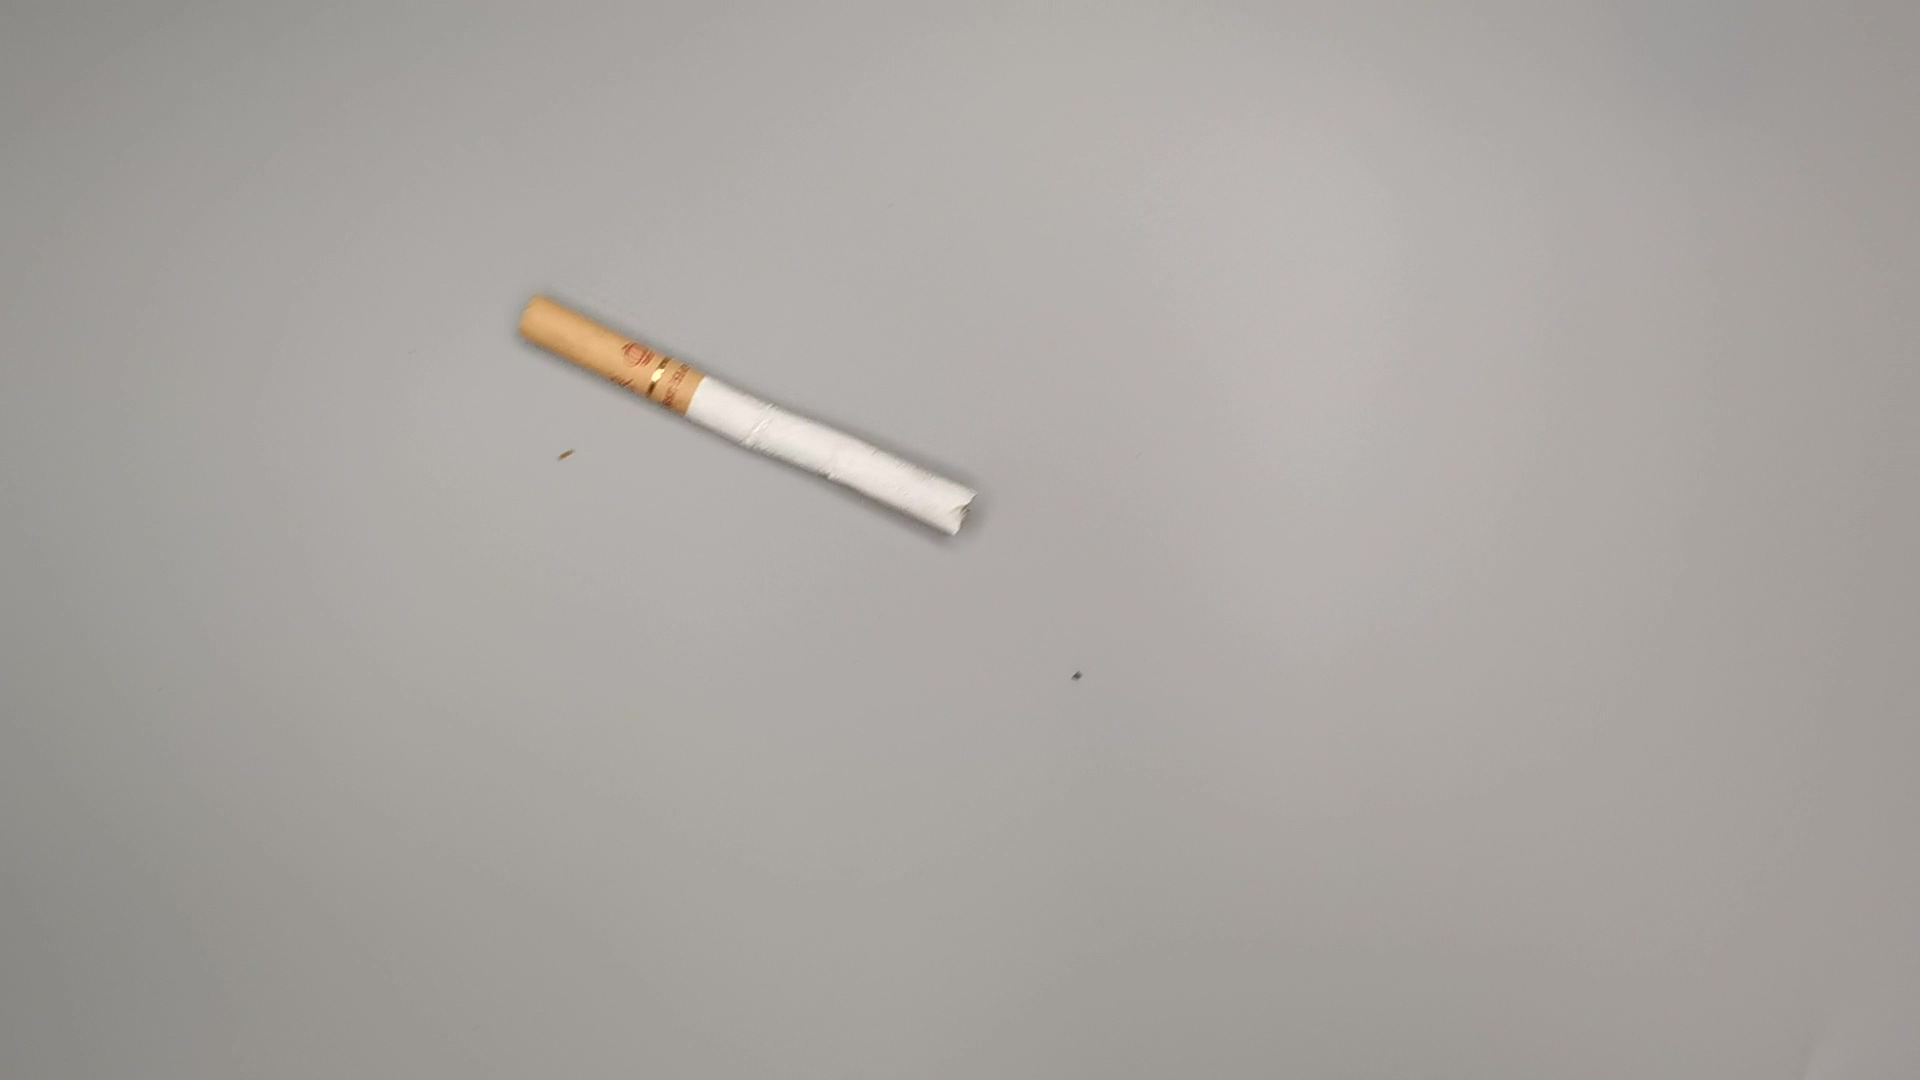cigarette: (510, 289, 993, 553)
